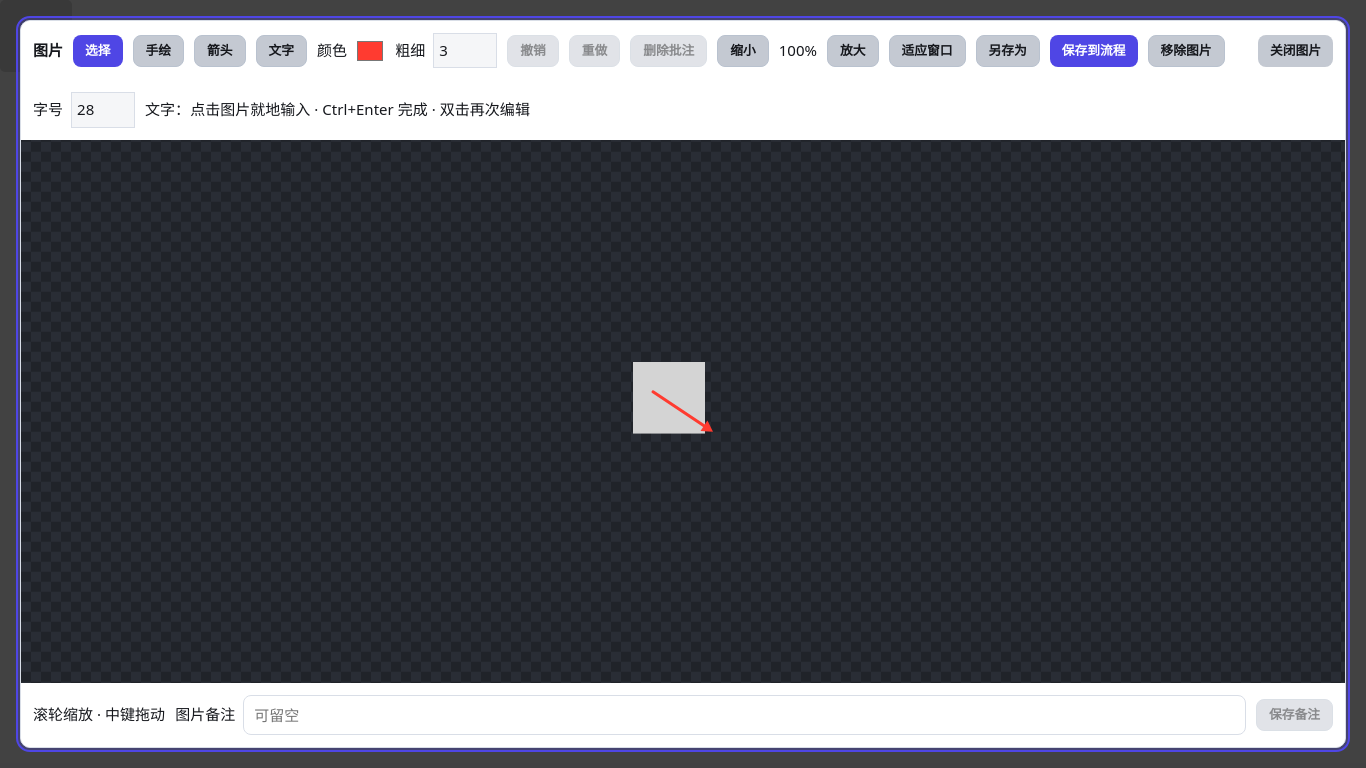
Test: 箭头真实记录位置，撤销重做及收起后草稿保留；保存失败不替换原引用
The width and height of the screenshot is (1366, 768).
Earlier steps of the test are not shown.
Click the button "保存到流程": (1094, 51) x1=1050 y1=35 x2=1138 y2=67
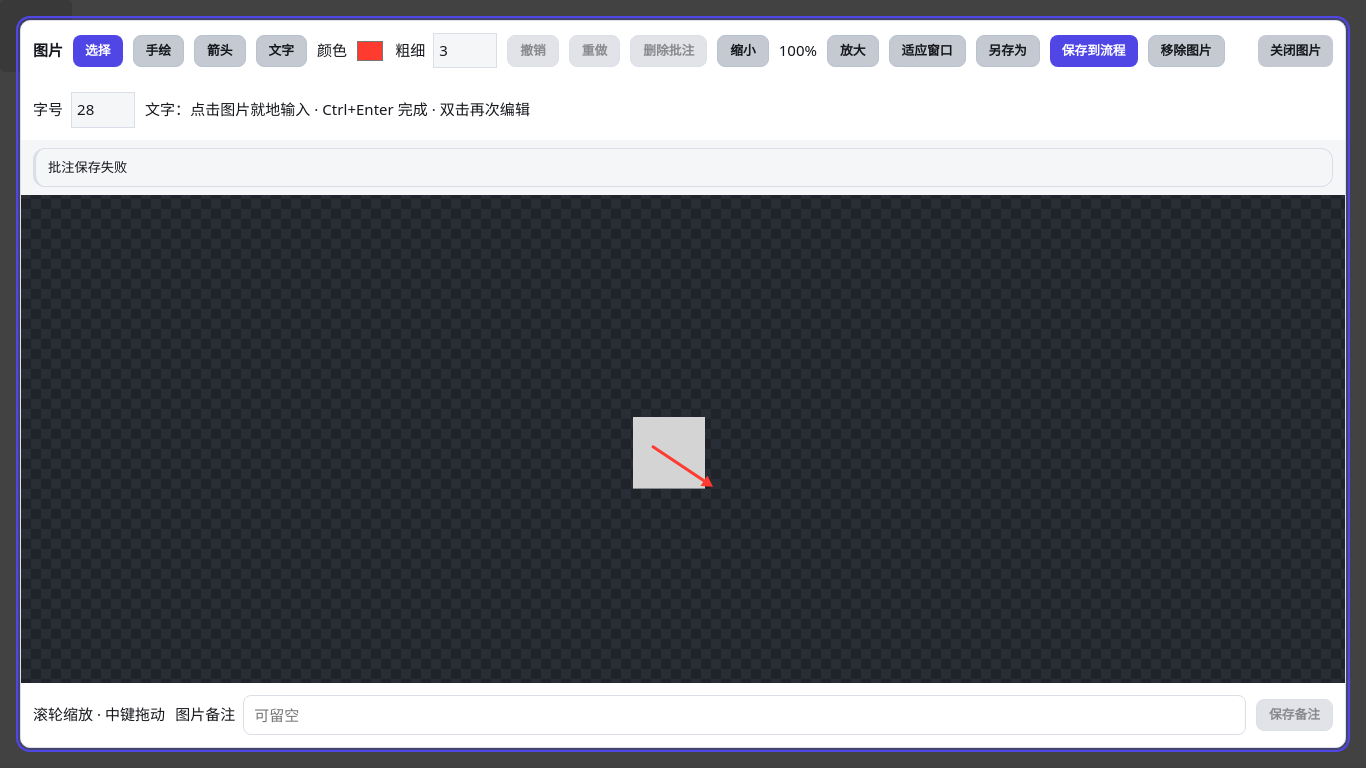
Expected: the message "批注保存失败" is shown, x1=33 y1=148 x2=1333 y2=187
